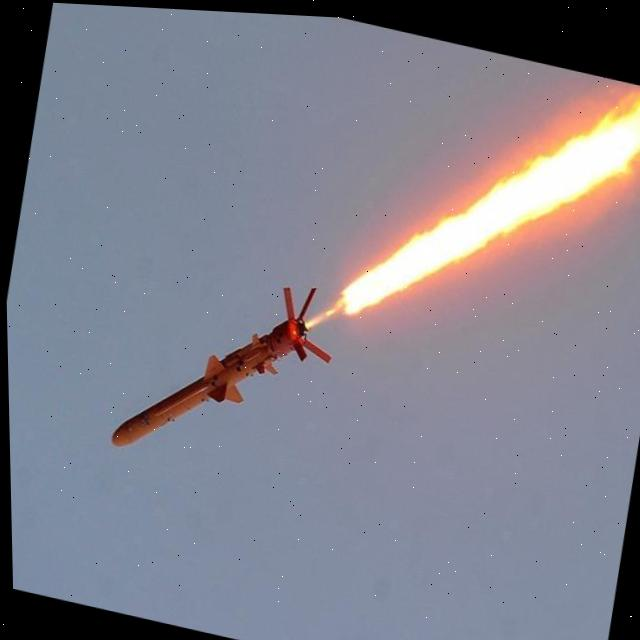missile: (99, 254, 330, 491)
